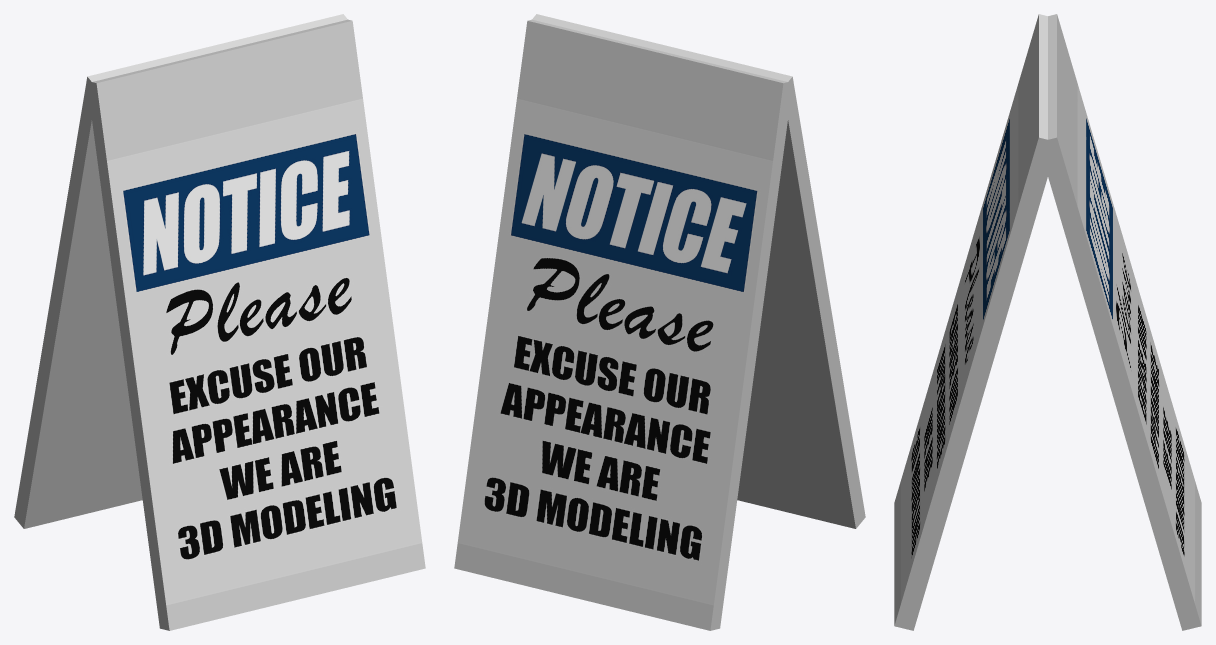
File: Sign.fbx
The picture shows the model from 3 angles, left to right: view 1: azimuth 30°, elevation 25°; view 2: azimuth 150°, elevation 25°; view 3: azimuth 270°, elevation 25°; orthographic projection.
Parts seen in each view (by area): view 1: pCube3, pCube4; view 2: pCube4, pCube3; view 3: pCube3, pCube4.
Part boxes in pixels (x1,y1,x2,y2): pCube3: (87, 19, 425, 630); pCube4: (14, 14, 347, 528); pCube4: (454, 19, 792, 630); pCube3: (532, 14, 865, 528); pCube3: (894, 14, 1057, 630); pCube4: (1038, 14, 1201, 630).
Bounding box in the file's own units: 22 × 40.96 × 23.11.
